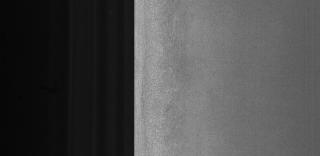silk spot: (156, 13, 200, 141)
